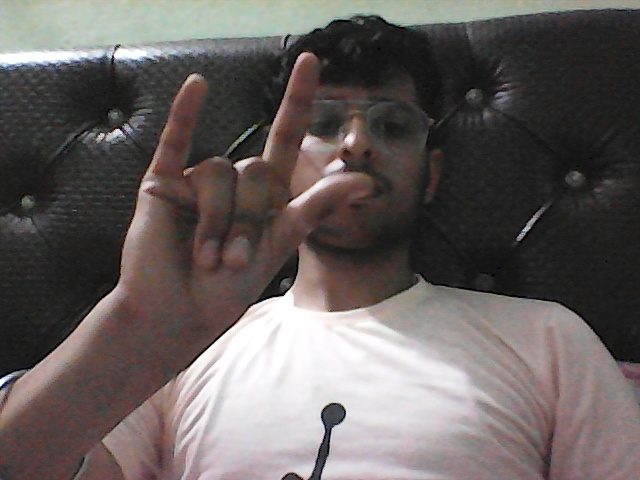iloveyou: (90, 32, 397, 418)
